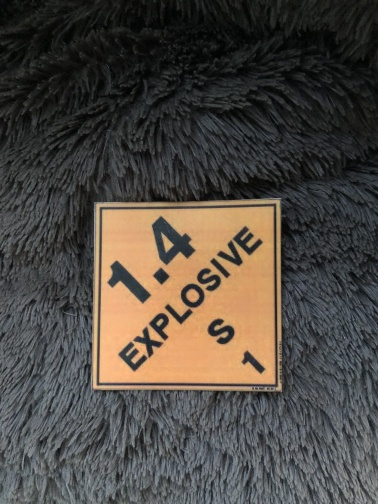Explosive: (93, 203, 284, 389)
